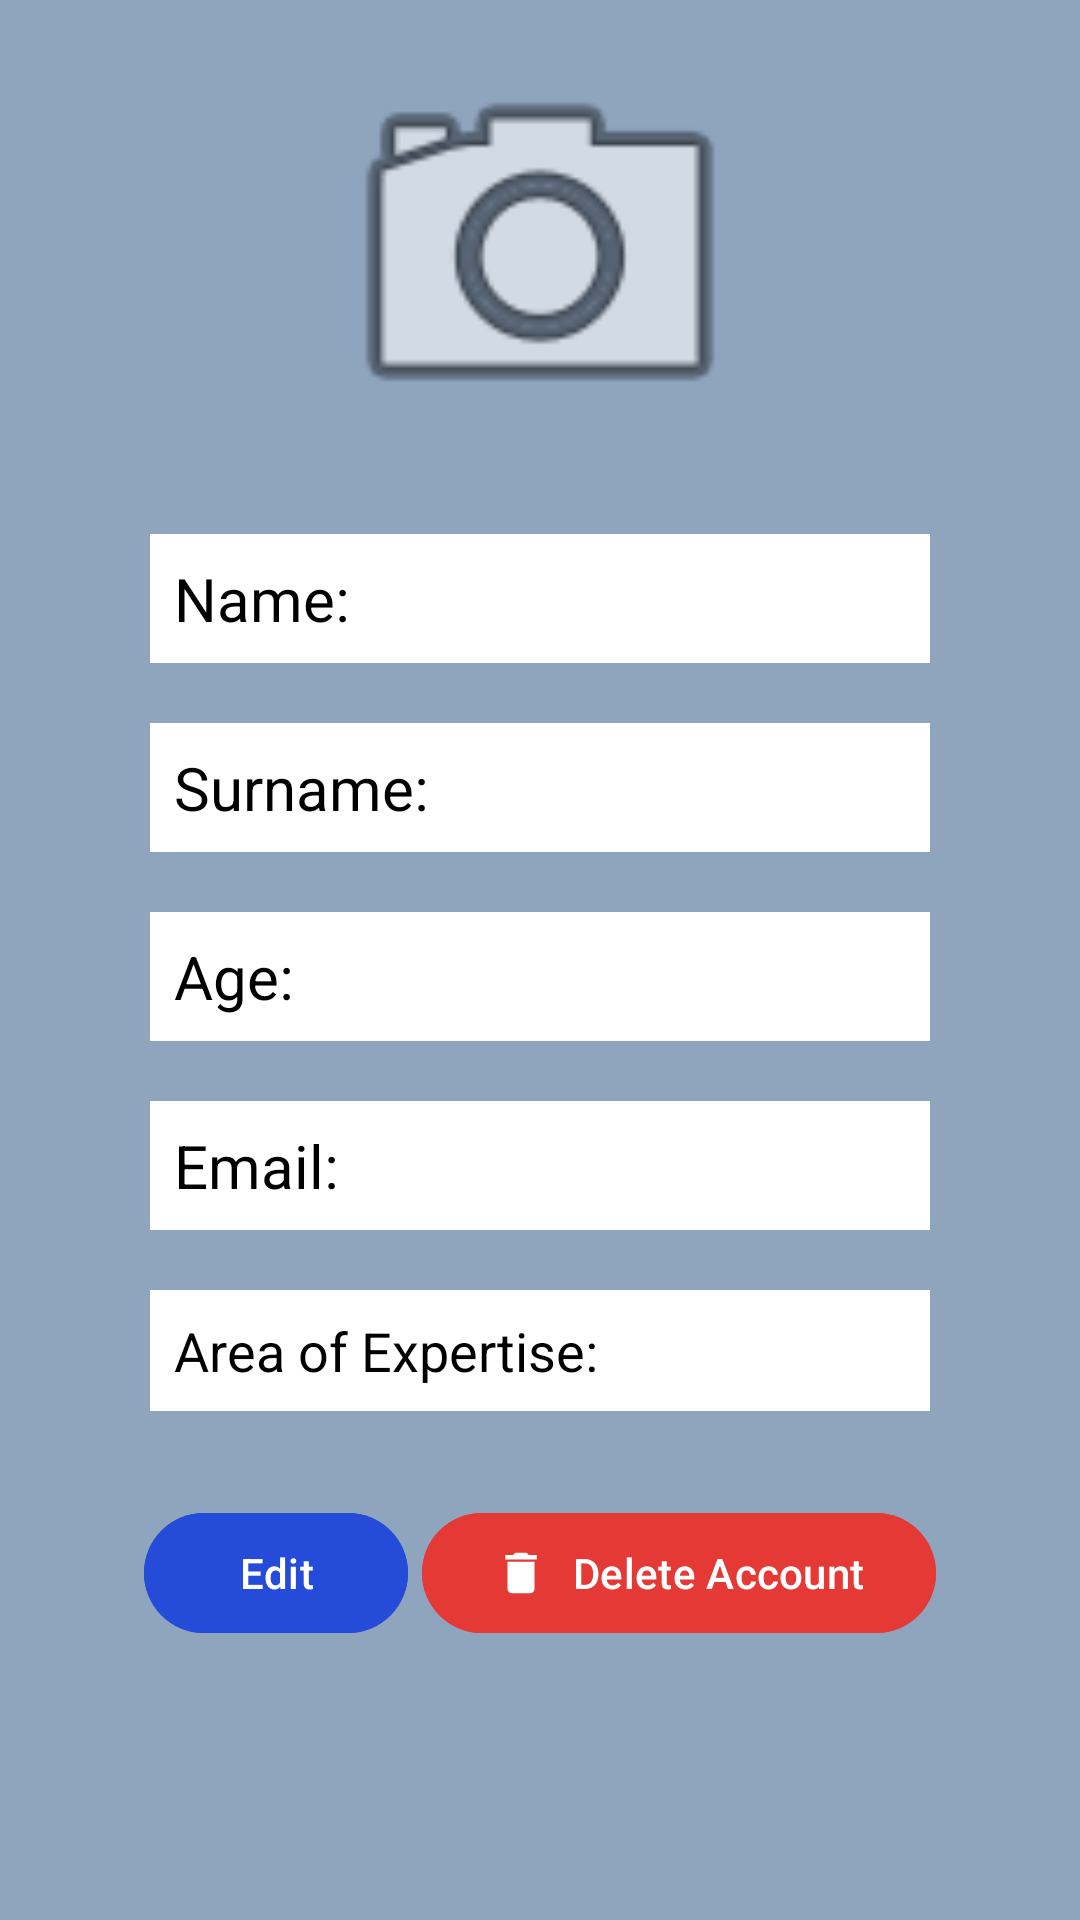

Where to tap for icons on this 1080px×1920px app screen, as (x,y):
camera: (540,242)
